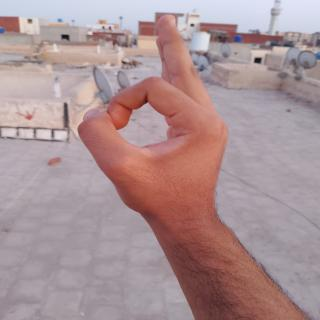Space: (65, 12, 235, 229)
